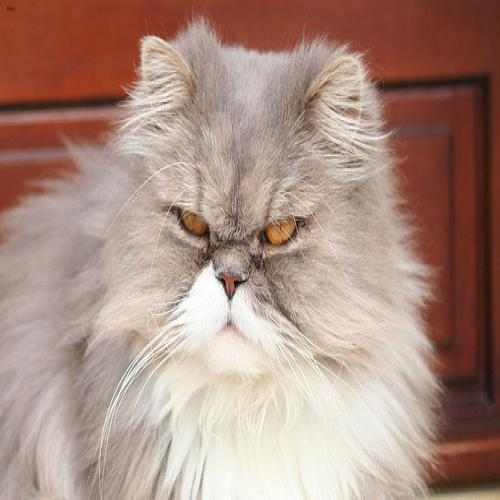persian: (114, 19, 386, 431)
